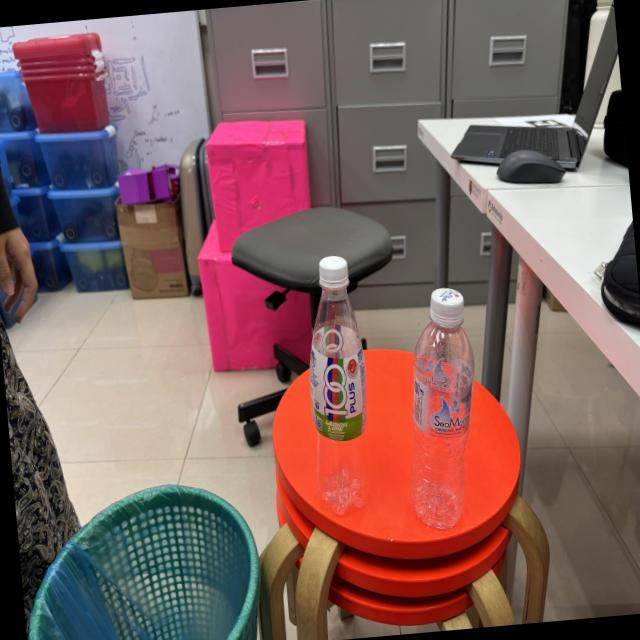dustbin: (14, 469, 272, 640)
plastic_bottle: (388, 275, 494, 543), (292, 247, 386, 526)
